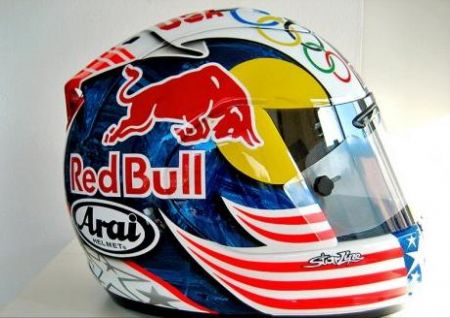helmet: (58, 22, 410, 314)
